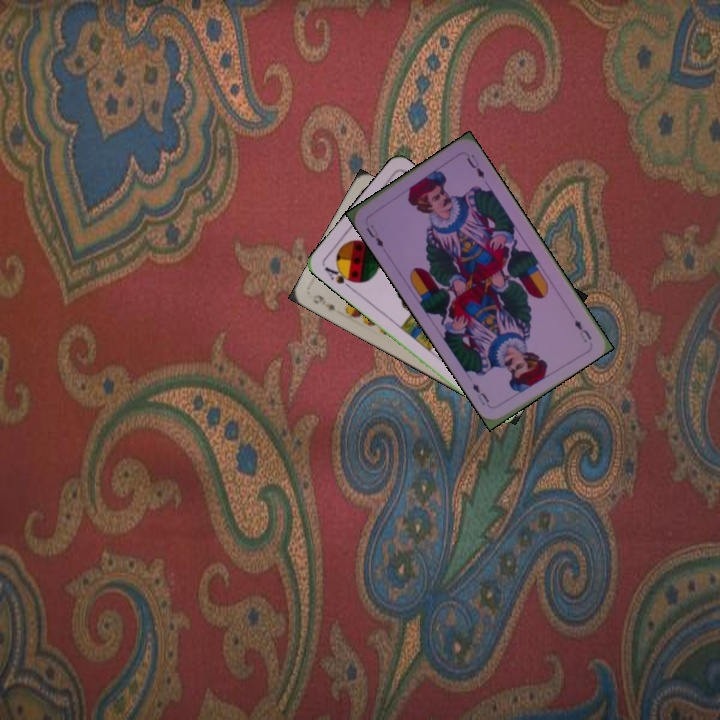E9: (309, 290, 338, 313)
EU: (362, 220, 386, 250), (570, 315, 594, 345)
SA: (320, 262, 359, 292)
